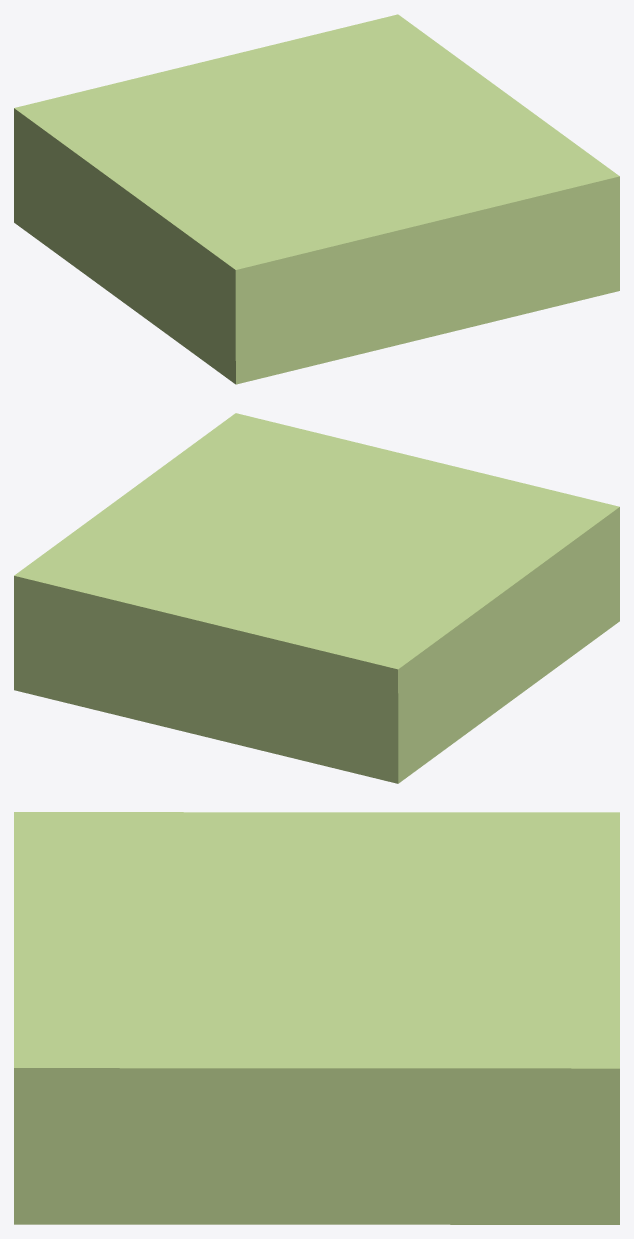
Rendered from wieczko.fbx.
The picture shows the model from 3 angles, top to bottom: view 1: azimuth 30°, elevation 25°; view 2: azimuth 150°, elevation 25°; view 3: azimuth 270°, elevation 25°; orthographic projection. The views are drawn at different scales.
Parts seen in each view (by area): view 1: Cube.002; view 2: Cube.002; view 3: Cube.002.
Boxes of the visible parts, left/top/right/bottom form: Cube.002: left=14, top=14, right=619, bottom=384; Cube.002: left=14, top=413, right=619, bottom=783; Cube.002: left=14, top=812, right=619, bottom=1224.
Bounding box in the file's own units: 66.84 × 19.09 × 66.82.
